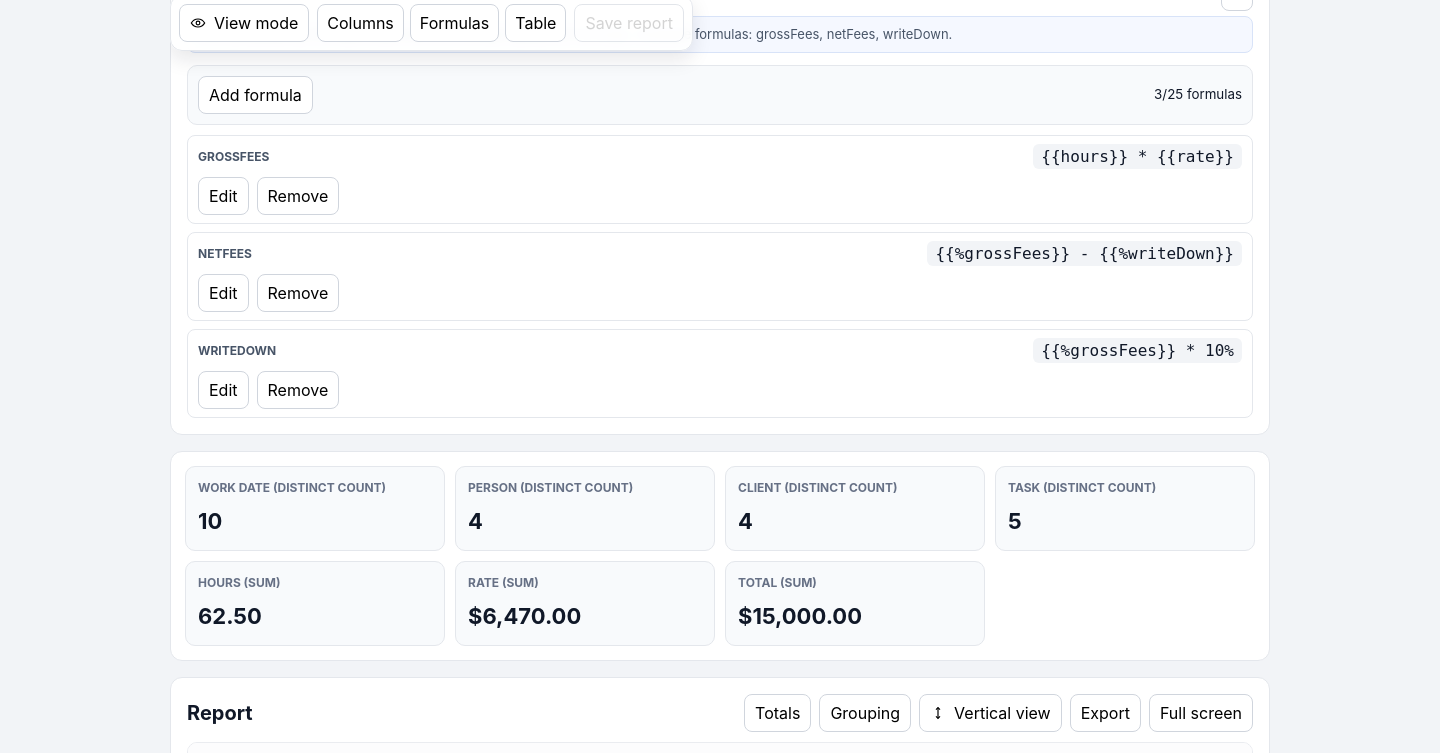
Test: ReportBuilderApp › re-sorts formulas alphabetically after saving an edited label
The image size is (1440, 753).
(page scrolled)
Expected: the text "writeDown" is shown, [198, 342, 276, 358]
Click the 3rd button "Edit": [223, 390] box [198, 371, 248, 409]
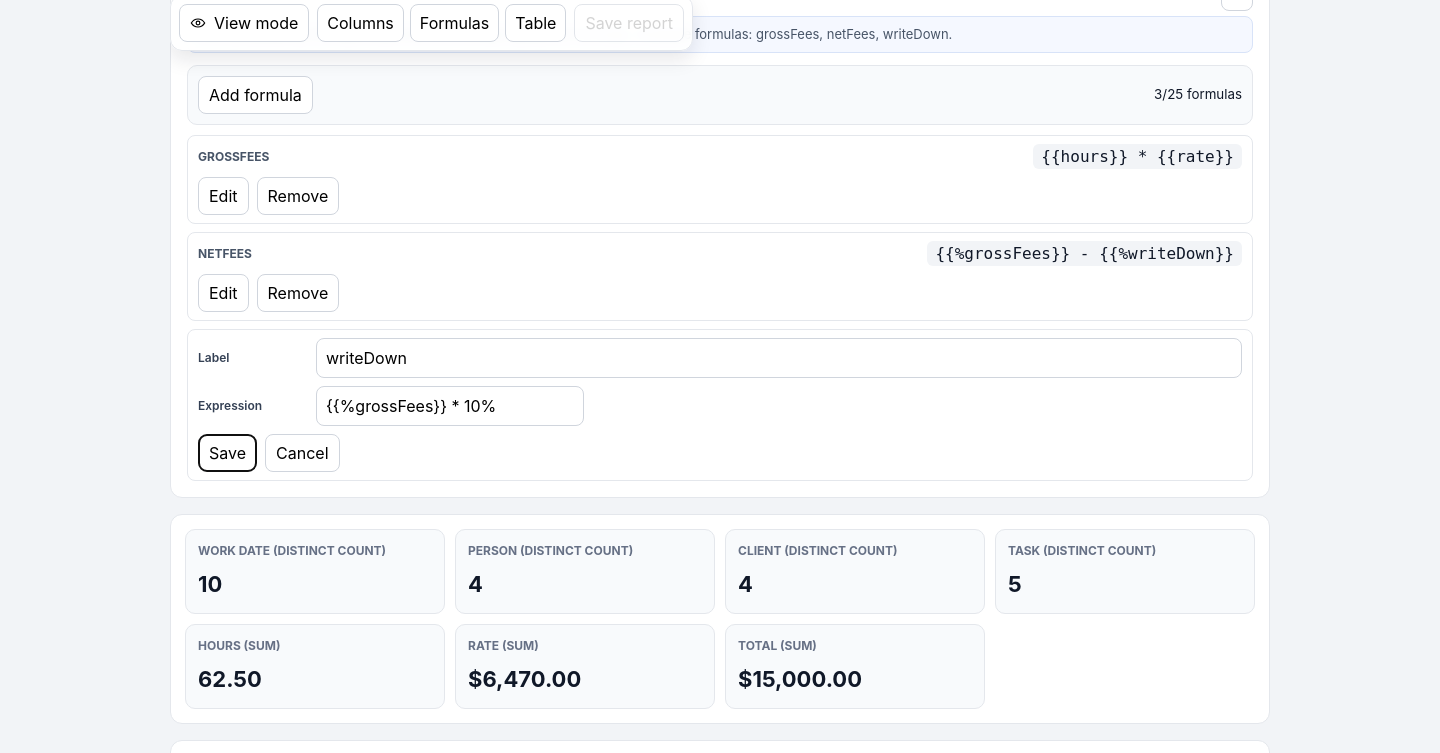
Replace the text in the field showing "writeDown" with "AaaFormula": [779, 358] box [316, 338, 1242, 378]
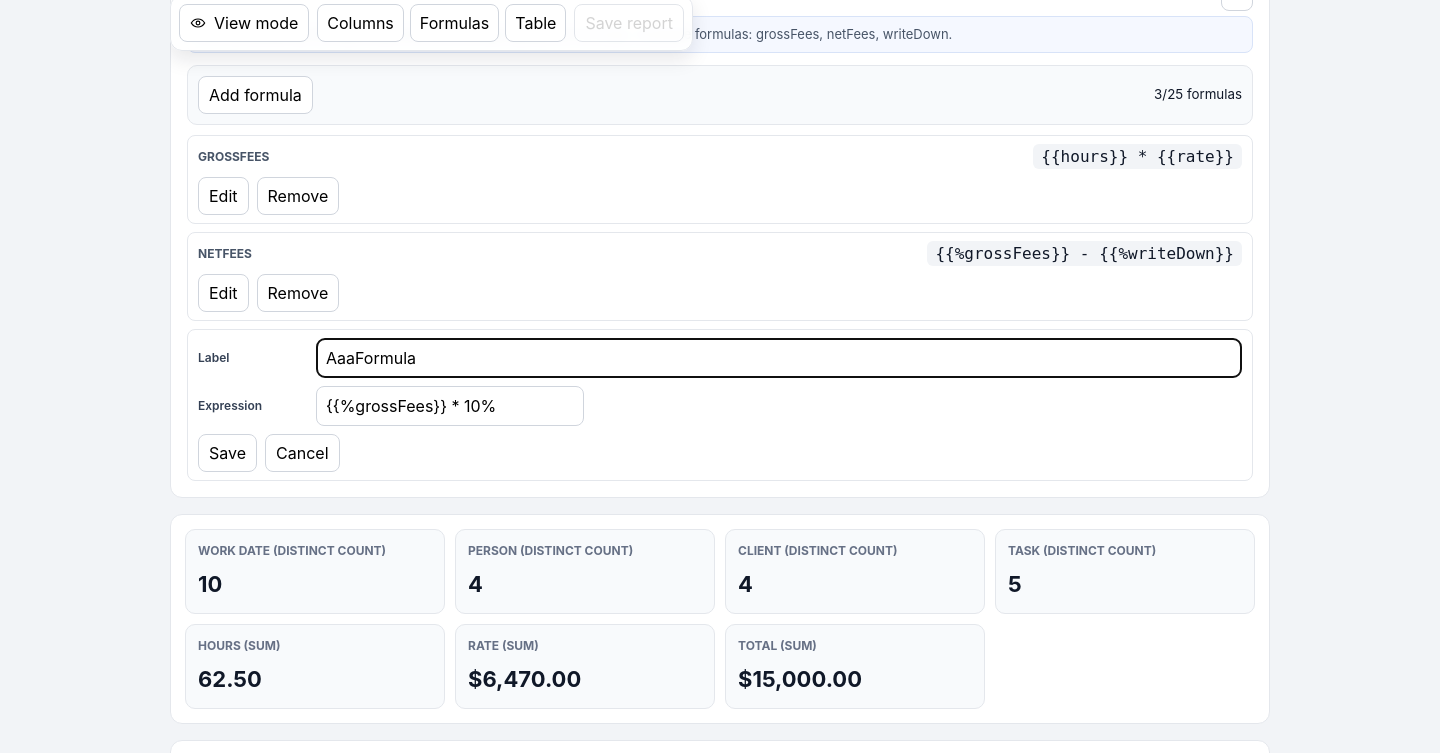
Click the button "Save": [228, 453] box [198, 434, 257, 472]
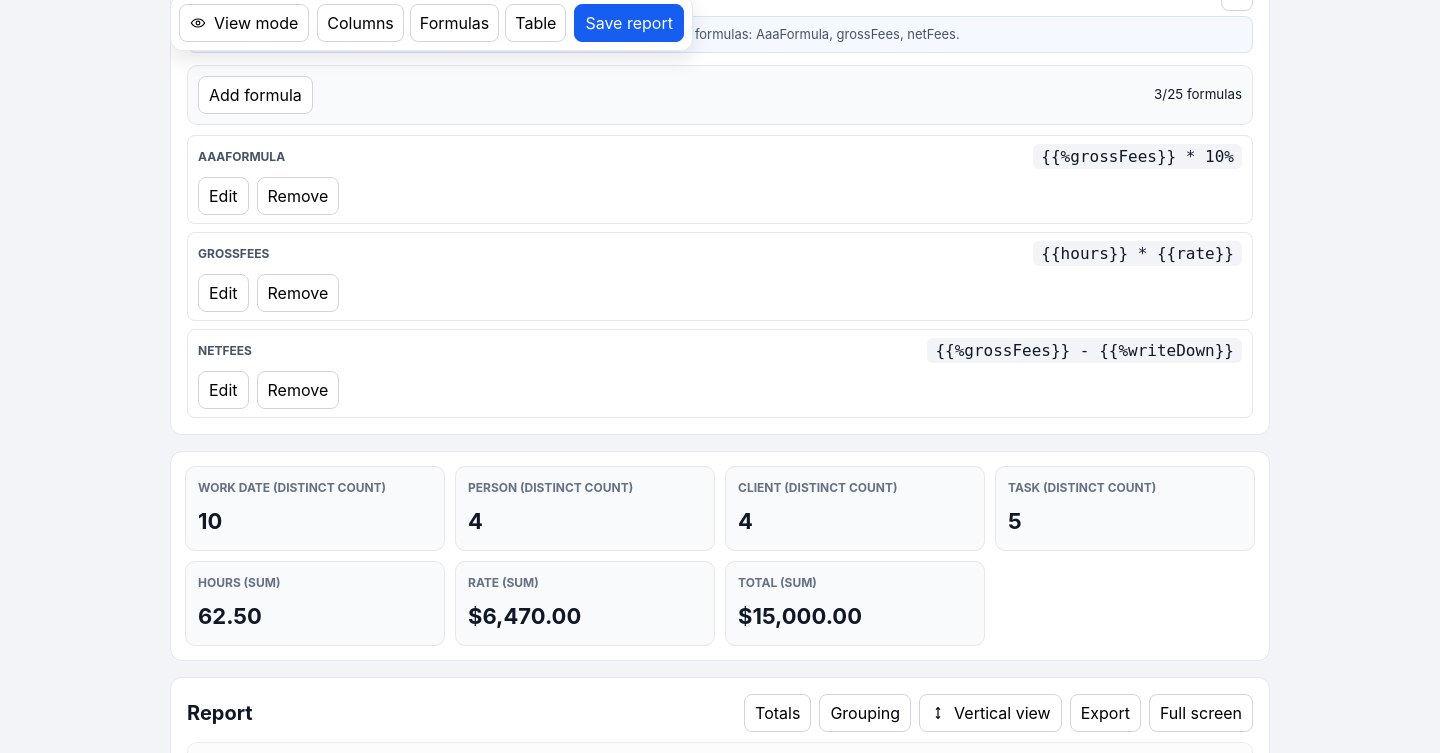
Expected: the text "AaaFormula" is shown, [198, 148, 285, 166]
